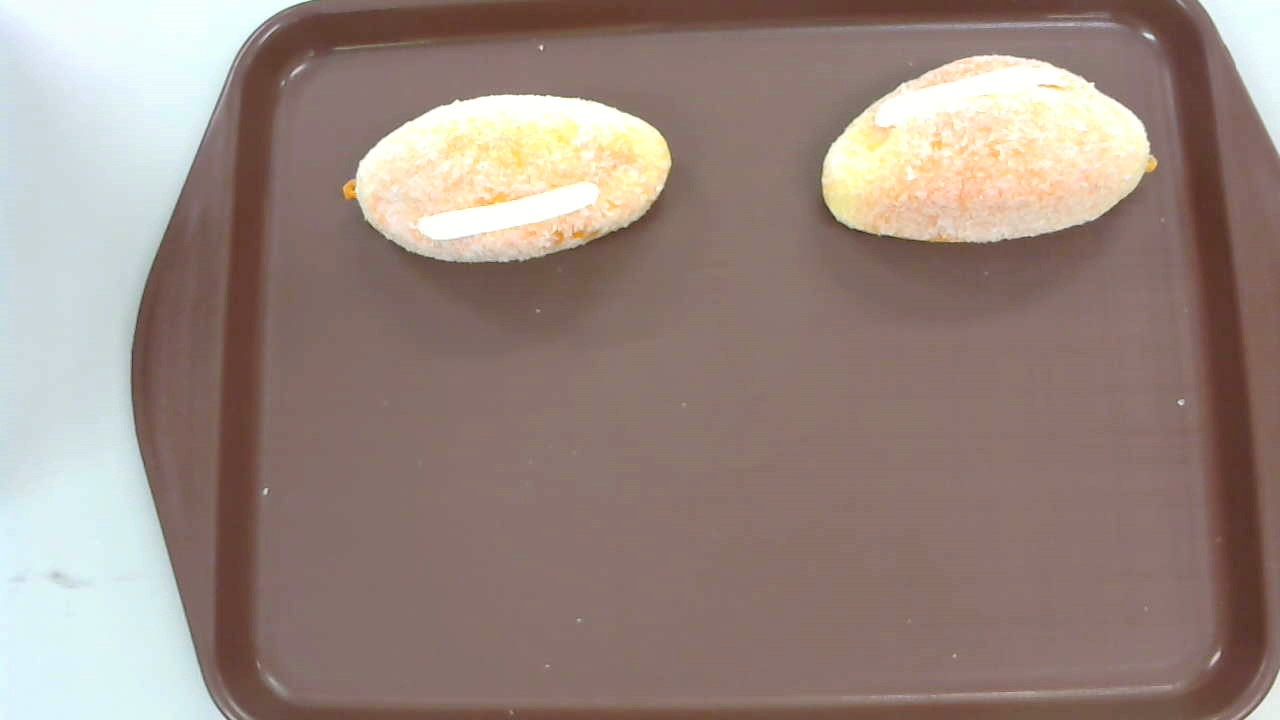coconut: (819, 54, 1159, 246), (344, 88, 672, 264)
